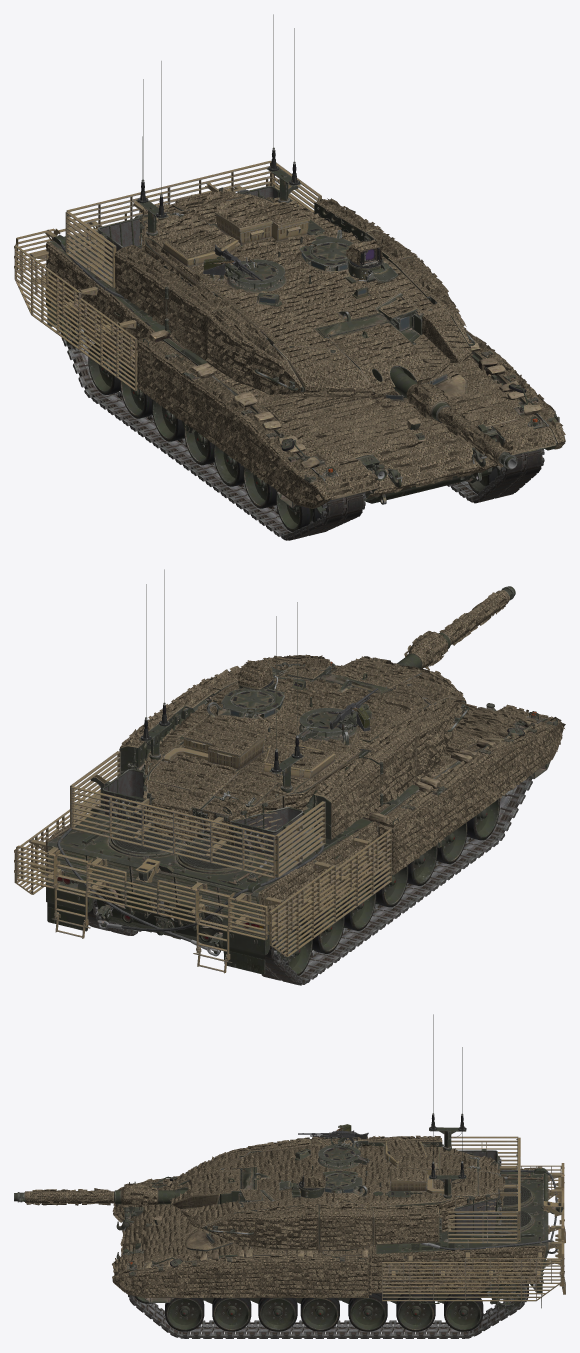
Rendered from Leo2A4M_GHPC_1.2.obj.
3 views of the same model, one above another, from view 1: azimuth 30°, elevation 25°; view 2: azimuth 150°, elevation 25°; view 3: azimuth 270°, elevation 25° (orthographic). The views are drawn at different scales.
Visible parts, largest first — view 1: vehicle#ex_armor_r_15_net_85, vehicle#ex_armor_r_14_net_103, vehicle#bone_turret_88, vehicle#track_l_47, vehicle#ex_decor_l_04_21, vehicle#ex_decor_06_92, vehicle#x_root_86, vehicle#gun_mask_net_108, vehicle#ex_armor_l_11_net_116, vehicle#ex_armor_l_13_net_106, vehicle#ex_armor_l_12_net_112, vehicle#gun_barrel_net_110 (+16 smaller); view 2: vehicle#ex_armor_r_14_net_103, vehicle#ex_armor_r_15_net_85, vehicle#x_root_86, vehicle#ex_decor_06_92, vehicle#bone_turret_88, vehicle#ex_decor_05_22, vehicle#ex_decor_l_04_21, vehicle#track_l_47, vehicle#ex_armor_l_13_net_106, vehicle#ex_armor_l_12_net_112, vehicle#gun_barrel_net_110, vehicle#ex_armor_l_11_net_116 (+23 smaller); view 3: vehicle#ex_armor_r_15_net_85, vehicle#ex_armor_r_14_net_103, vehicle#x_root_86, vehicle#bone_turret_88, vehicle#track_r_46, vehicle#ex_decor_r_04_20, vehicle#ex_decor_06_92, vehicle#ex_armor_r_11_net_114, vehicle#ex_armor_r_13_net_105, vehicle#ex_armor_r_12_net_104, vehicle#gun_barrel_net_110, vehicle#gun_mask_net_108 (+15 smaller).
Part boxes in pixels (bbox=[...]): vehicle#ex_armor_r_15_net_85: bbox=[44, 241, 565, 508]; vehicle#ex_armor_r_14_net_103: bbox=[139, 189, 473, 398]; vehicle#bone_turret_88: bbox=[136, 147, 431, 380]; vehicle#track_l_47: bbox=[56, 304, 365, 540]; vehicle#ex_decor_l_04_21: bbox=[14, 245, 137, 391]; vehicle#ex_decor_06_92: bbox=[65, 160, 321, 288]; vehicle#x_root_86: bbox=[47, 190, 549, 504]; vehicle#gun_mask_net_108: bbox=[329, 323, 431, 395]; vehicle#ex_armor_l_11_net_116: bbox=[205, 305, 269, 387]; vehicle#ex_armor_l_13_net_106: bbox=[114, 245, 181, 325]; vehicle#ex_armor_l_12_net_112: bbox=[166, 279, 230, 361]; vehicle#gun_barrel_net_110: bbox=[406, 381, 510, 467]; vehicle#ex_armor_r_14_net_103: bbox=[143, 654, 466, 845]; vehicle#ex_armor_r_15_net_85: bbox=[44, 665, 565, 938]; vehicle#x_root_86: bbox=[46, 661, 547, 956]; vehicle#ex_decor_06_92: bbox=[70, 751, 325, 878]; vehicle#bone_turret_88: bbox=[139, 662, 428, 845]; vehicle#ex_decor_05_22: bbox=[14, 845, 271, 940]; vehicle#ex_decor_l_04_21: bbox=[265, 829, 391, 956]; vehicle#track_l_47: bbox=[262, 777, 532, 985]; vehicle#ex_armor_l_13_net_106: bbox=[313, 758, 380, 839]; vehicle#ex_armor_l_12_net_112: bbox=[359, 725, 416, 802]; vehicle#gun_barrel_net_110: bbox=[404, 590, 509, 670]; vehicle#ex_armor_l_11_net_116: bbox=[392, 704, 447, 781]; vehicle#ex_armor_r_15_net_85: bbox=[112, 1167, 545, 1298]; vehicle#ex_armor_r_14_net_103: bbox=[170, 1140, 505, 1240]; vehicle#x_root_86: bbox=[124, 1168, 563, 1300]; vehicle#bone_turret_88: bbox=[220, 1113, 500, 1244]; vehicle#track_r_46: bbox=[128, 1284, 528, 1338]; vehicle#ex_decor_r_04_20: bbox=[382, 1252, 561, 1301]; vehicle#ex_decor_06_92: bbox=[447, 1136, 520, 1243]; vehicle#ex_armor_r_11_net_114: bbox=[250, 1204, 318, 1250]; vehicle#ex_armor_r_13_net_105: bbox=[372, 1204, 439, 1244]; vehicle#ex_armor_r_12_net_104: bbox=[319, 1204, 373, 1250]; vehicle#gun_barrel_net_110: bbox=[25, 1183, 158, 1207]; vehicle#gun_mask_net_108: bbox=[169, 1169, 240, 1212].
Size of the model in its own units: 4.06 by 5.12 by 9.8.
22 materials, 22 textured.
